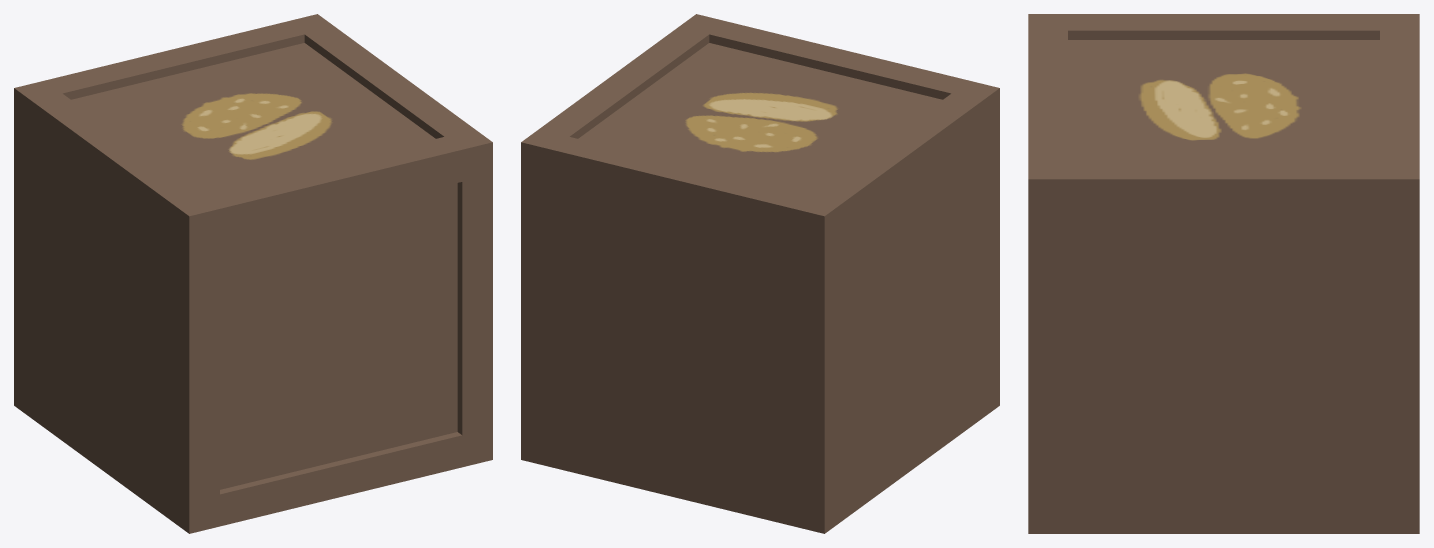
File: ingredient_crate_bun.gltf
3 renders of one model, left to right at view 1: azimuth 30°, elevation 25°; view 2: azimuth 150°, elevation 25°; view 3: azimuth 270°, elevation 25°, orthographic. The views are drawn at different scales.
Parts seen in each view (by area): view 1: Ingredient_Crate2; view 2: Ingredient_Crate2; view 3: Ingredient_Crate2.
Boxes of the visible parts, left/top/right/bottom form: Ingredient_Crate2: left=14, top=14, right=492, bottom=533; Ingredient_Crate2: left=521, top=14, right=999, bottom=533; Ingredient_Crate2: left=1028, top=14, right=1419, bottom=533.
Size of the model in its own units: 1 by 1 by 1.
